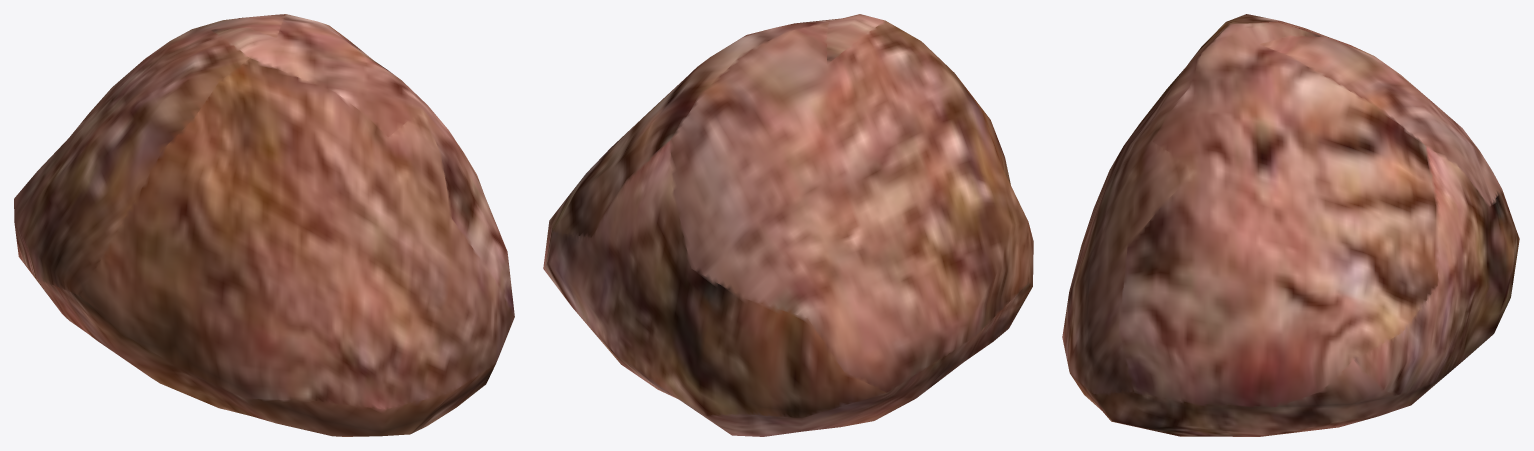
The model's file is EtDonerKesme.fbx.
3 renders of one model, left to right at view 1: azimuth 30°, elevation 25°; view 2: azimuth 150°, elevation 25°; view 3: azimuth 270°, elevation 25°, orthographic. The views are drawn at different scales.
Parts seen in each view (by area): view 1: Icosphere.002; view 2: Icosphere.002; view 3: Icosphere.002.
Part boxes in pixels (box(x1,y1,x2,y2)): Icosphere.002: box(14, 14, 514, 436); Icosphere.002: box(543, 14, 1033, 436); Icosphere.002: box(1062, 14, 1519, 436).
Bounding box in the file's own units: 430 × 347 × 410.
1 material, 1 textured.
